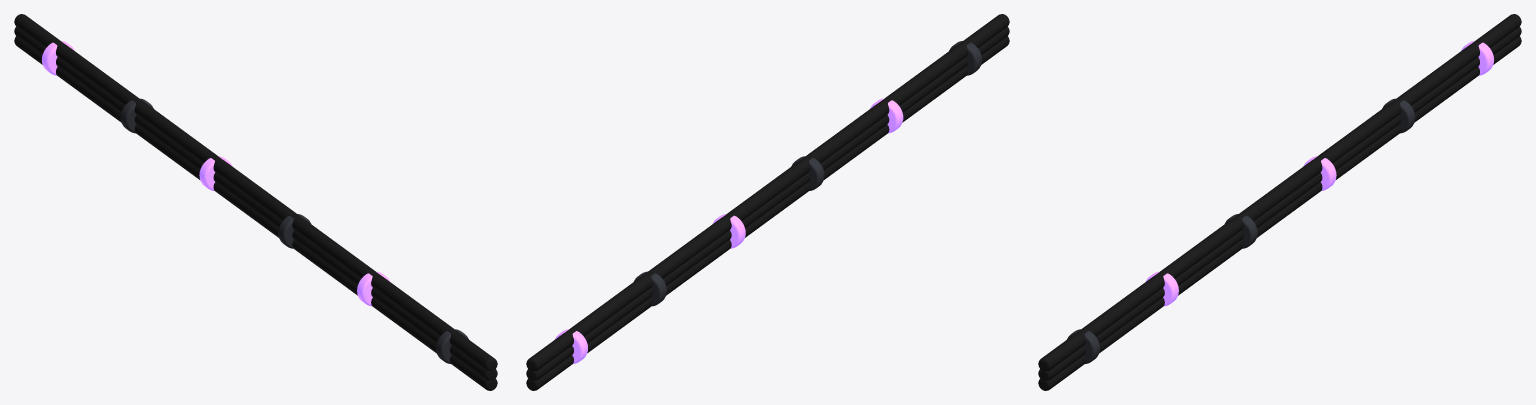
The picture shows the model from 3 angles, left to right: view 1: azimuth 30°, elevation 25°; view 2: azimuth 150°, elevation 25°; view 3: azimuth 330°, elevation 25°; orthographic projection.
Visible parts, largest first — view 1: part_017; view 2: part_017; view 3: part_017.
Part boxes in pixels (box(x1,y1,x2,y2)): part_017: box(14, 14, 497, 390); part_017: box(526, 14, 1009, 390); part_017: box(1038, 14, 1521, 390).
Bounding box in the file's own units: 0.0784 × 0.0816 × 2.15.
